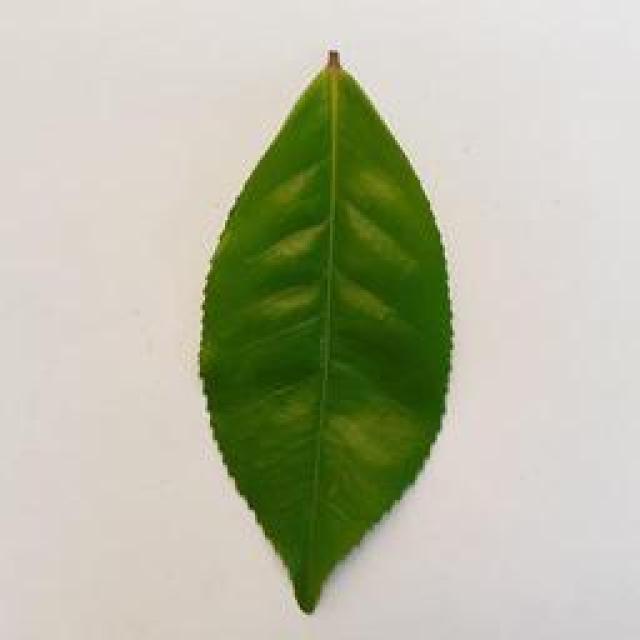Healthy: (183, 46, 458, 604)
